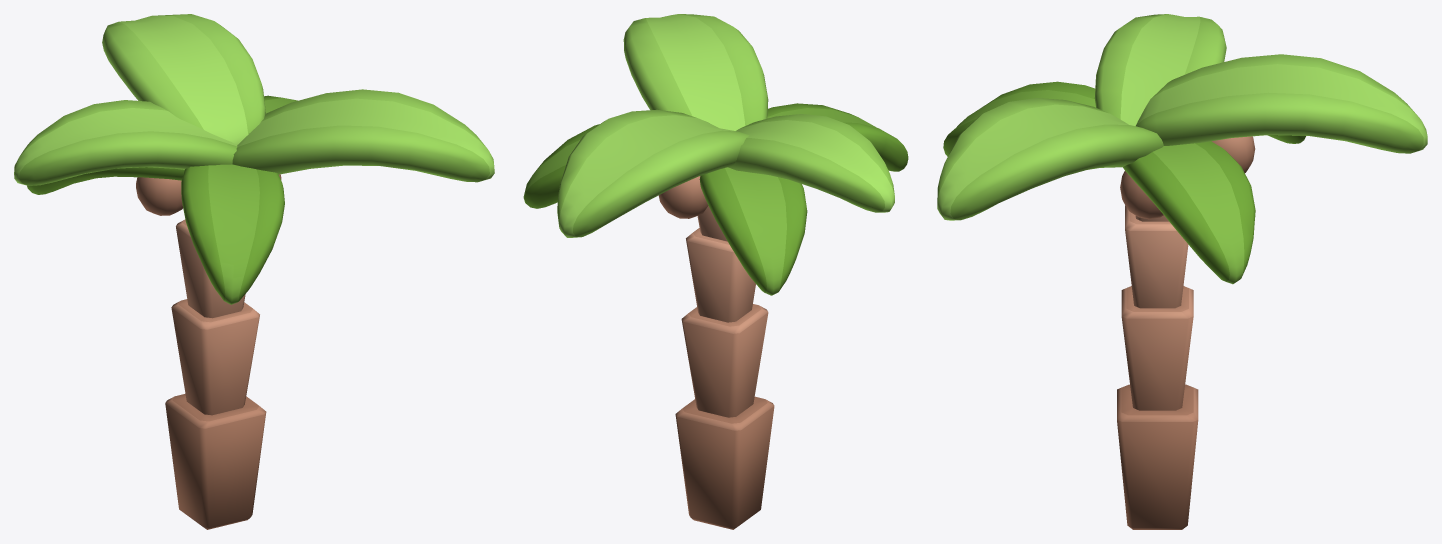
Rendered from palm_2.fbx.
3 views of the same model, side by side, from view 1: azimuth 30°, elevation 25°; view 2: azimuth 150°, elevation 25°; view 3: azimuth 270°, elevation 25° (orthographic). The views are drawn at different scales.
Visible parts, largest first — view 1: palm_2, coconuts_2; view 2: palm_2, coconuts_2; view 3: palm_2, coconuts_2.
Boxes of the visible parts, <box> form: palm_2: <box>14,14,494,529</box>; coconuts_2: <box>136,174,281,215</box>; palm_2: <box>523,14,908,529</box>; coconuts_2: <box>658,176,708,218</box>; palm_2: <box>937,14,1427,529</box>; coconuts_2: <box>1120,136,1255,219</box>.
Size of the model in its own units: 236 by 264 by 260.
Materials: 1 (1 with a texture image).
